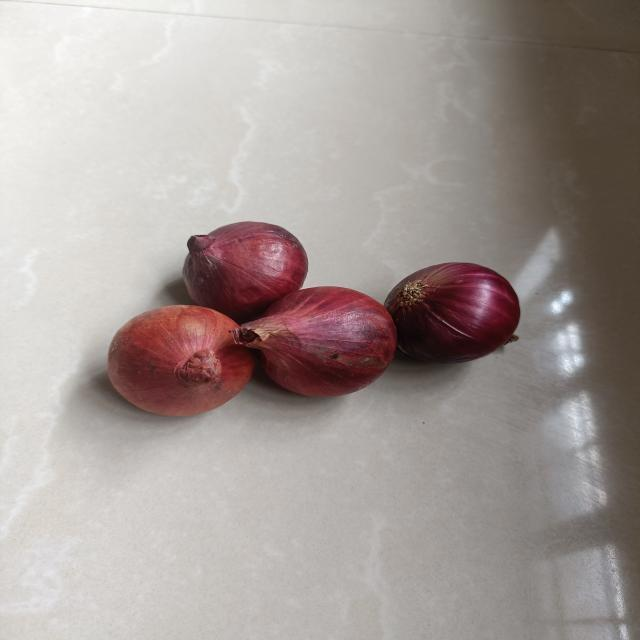onion: (234, 284, 405, 401), (99, 303, 257, 417), (385, 260, 522, 365), (177, 219, 311, 309)
